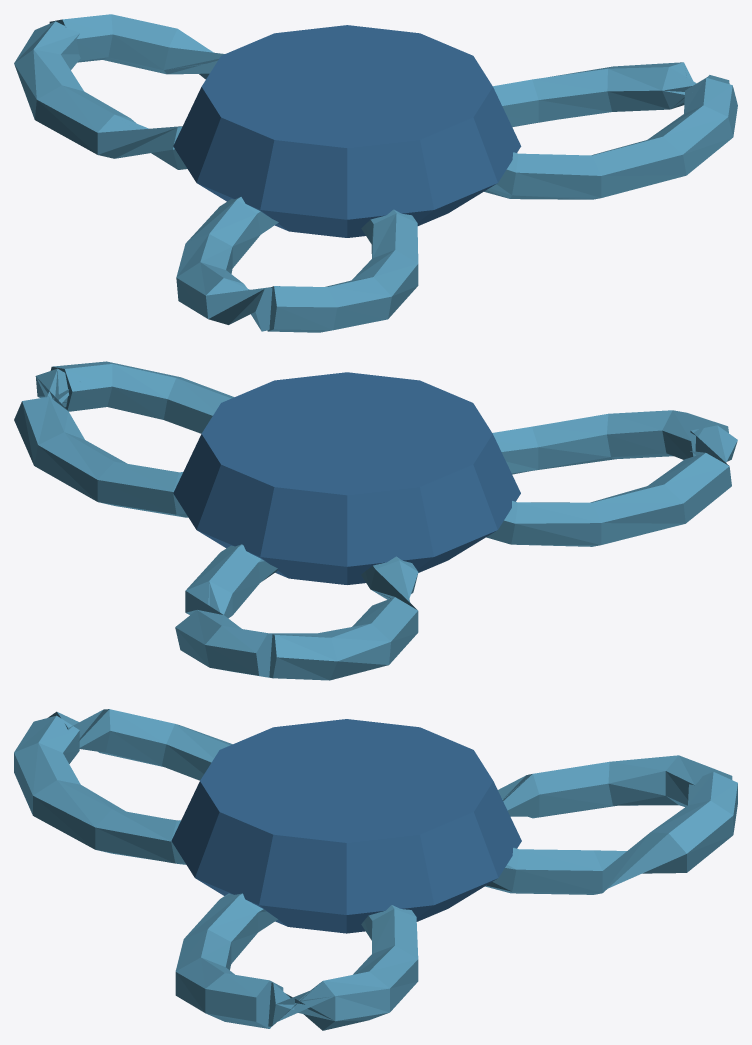
The model's file is AzureTangleRoots.glb.
3 renders of one model, top to bottom at view 1: azimuth 30°, elevation 25°; view 2: azimuth 150°, elevation 25°; view 3: azimuth 270°, elevation 25°, orthographic.
Visible parts, largest first — view 1: AzureTangleRoots_AzureTangleStrands, AzureTangleRoots_AzureTangleBody; view 2: AzureTangleRoots_AzureTangleStrands, AzureTangleRoots_AzureTangleBody; view 3: AzureTangleRoots_AzureTangleStrands, AzureTangleRoots_AzureTangleBody.
Part boxes in pixels (x1,y1,x2,y2): AzureTangleRoots_AzureTangleStrands: [14, 14, 737, 332]; AzureTangleRoots_AzureTangleBody: [173, 25, 521, 237]; AzureTangleRoots_AzureTangleStrands: [14, 361, 737, 680]; AzureTangleRoots_AzureTangleBody: [173, 372, 520, 584]; AzureTangleRoots_AzureTangleStrands: [14, 709, 737, 1030]; AzureTangleRoots_AzureTangleBody: [171, 719, 521, 933].
Size of the model in its own units: 3.62 by 0.6 by 3.7.
